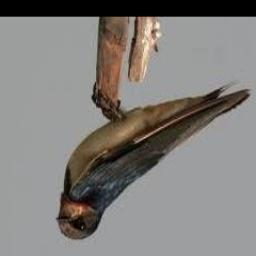Swallow: (57, 85, 251, 238)
